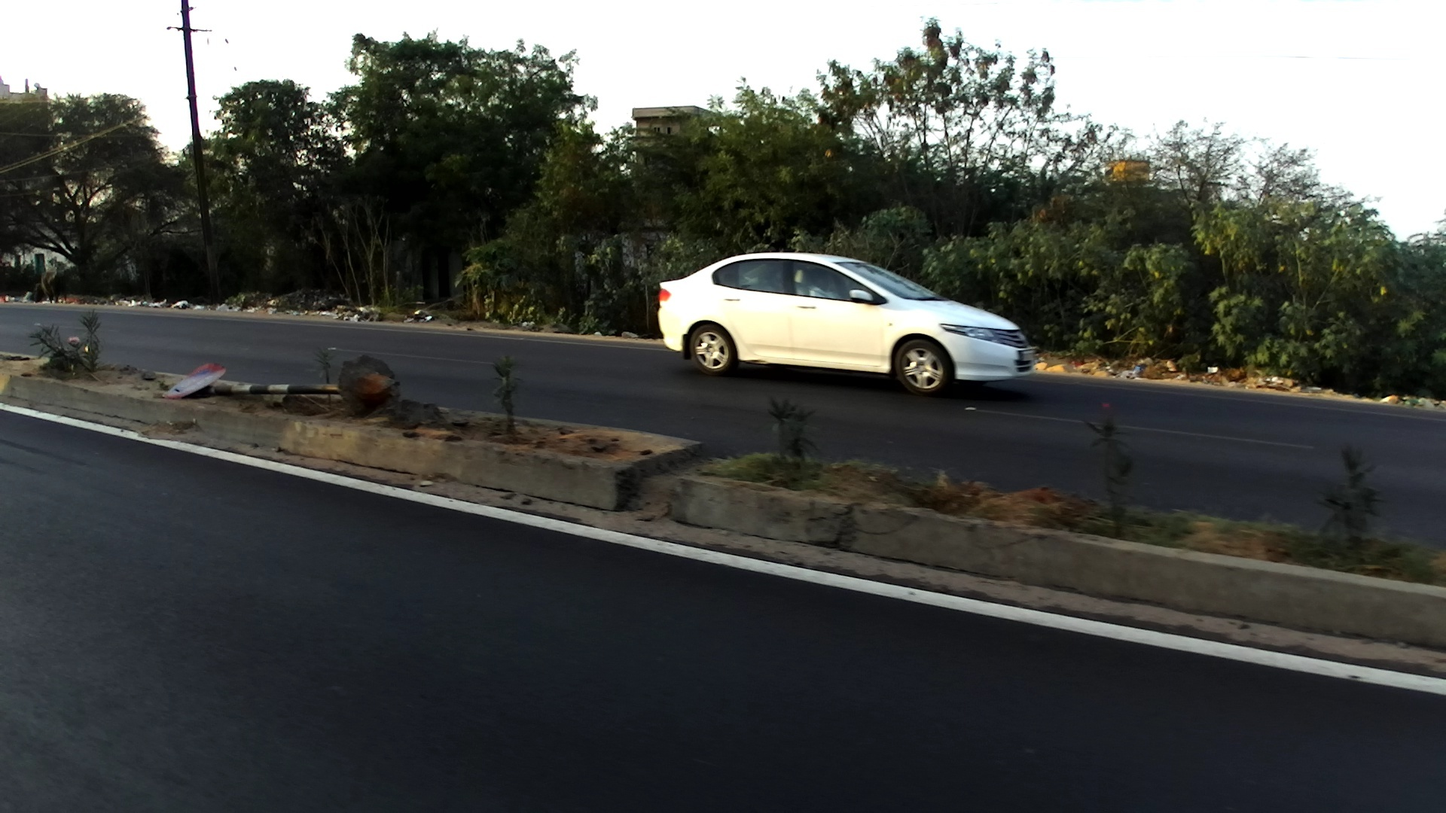animal: (35, 269, 70, 306)
car: (655, 250, 1038, 397)
